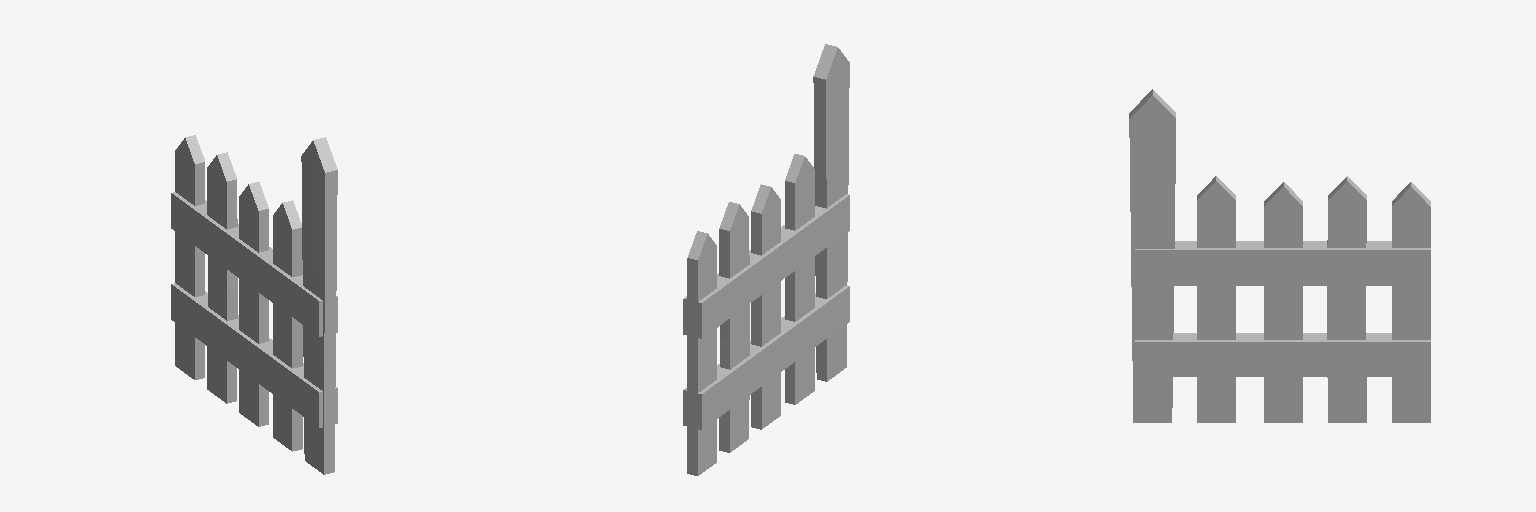
Rendered from CHAHIN_FENCE.obj.
3 views of the same model, side by side, from view 1: azimuth 30°, elevation 25°; view 2: azimuth 150°, elevation 25°; view 3: azimuth 270°, elevation 25° (orthographic).
Visible parts, largest first — view 1: wooden_fence_pattern_Cube.036; view 2: wooden_fence_pattern_Cube.036; view 3: wooden_fence_pattern_Cube.036.
Part boxes in pixels (x1,y1,x2,y2): wooden_fence_pattern_Cube.036: (171, 135, 337, 474); wooden_fence_pattern_Cube.036: (683, 44, 849, 475); wooden_fence_pattern_Cube.036: (1129, 89, 1430, 422).
Size of the model in its own units: 0.1745 by 2.96 by 2.47.